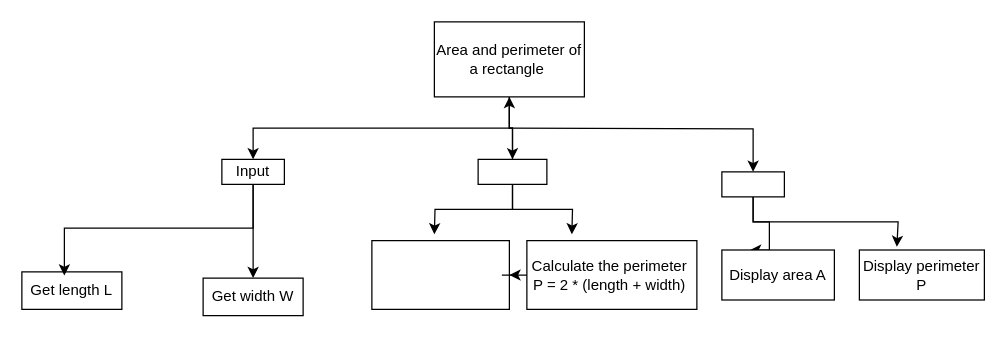
Image size: 1006x338. Some labels were removed from this diagram. Each missing label, with the box of its shape:
Calculate the area A = length * width: (371, 239, 509, 309)
output: (721, 171, 784, 197)
prossecc: (477, 158, 547, 184)
